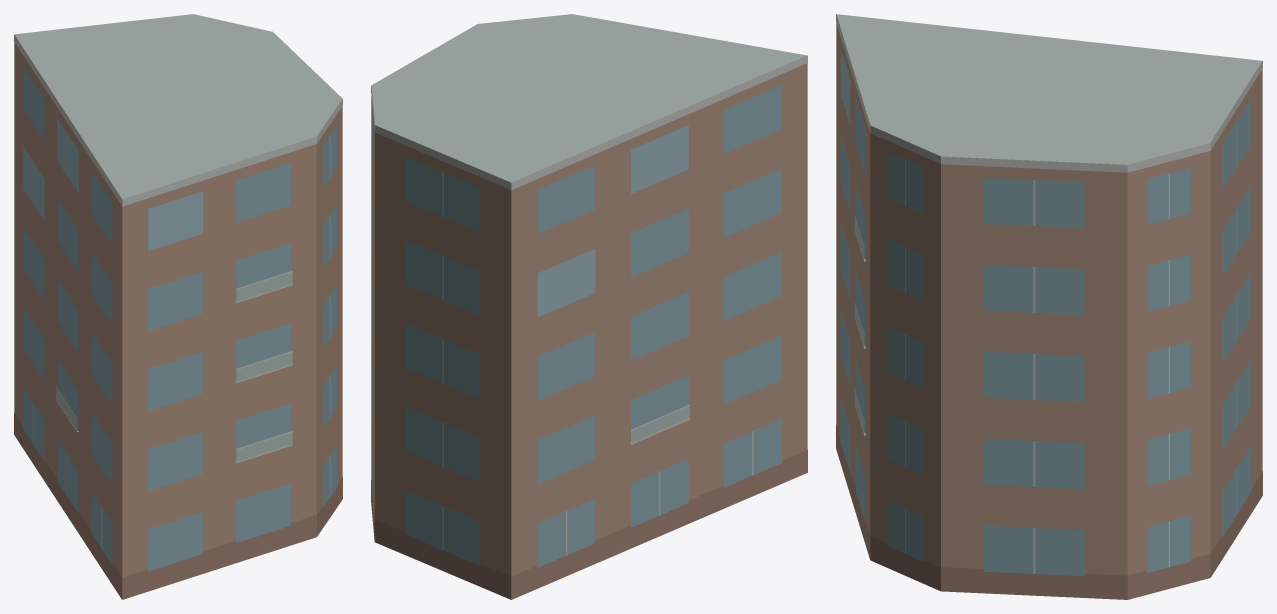
The model's file is survey-upis-32870385.glb.
The picture shows the model from 3 angles, left to right: view 1: azimuth 30°, elevation 25°; view 2: azimuth 150°, elevation 25°; view 3: azimuth 270°, elevation 25°; orthographic projection. The views are drawn at different scales.
Visible parts, largest first — view 1: survey-upis-32870385.tmp; view 2: survey-upis-32870385.tmp; view 3: survey-upis-32870385.tmp.
Boxes of the visible parts, bbox=[...] form: survey-upis-32870385.tmp: bbox=[14, 14, 342, 599]; survey-upis-32870385.tmp: bbox=[371, 14, 807, 599]; survey-upis-32870385.tmp: bbox=[836, 14, 1262, 599].
Size of the model in its own units: 10.1 by 13.55 by 12.05.
